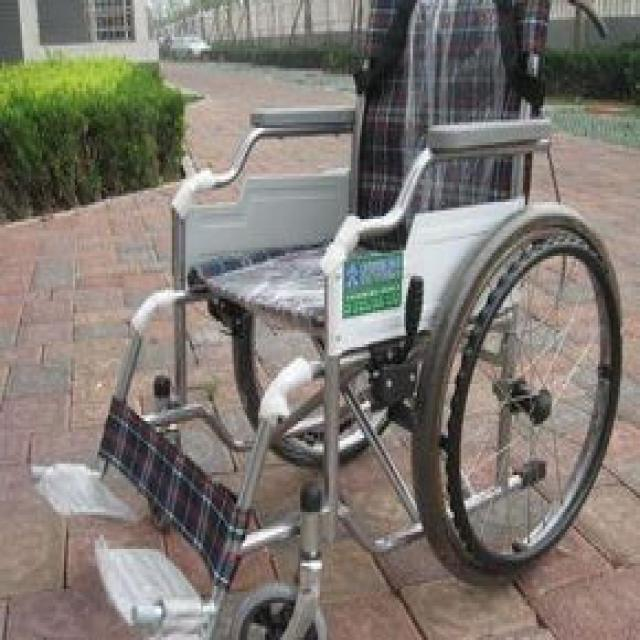wheelchair: (39, 2, 632, 638)
